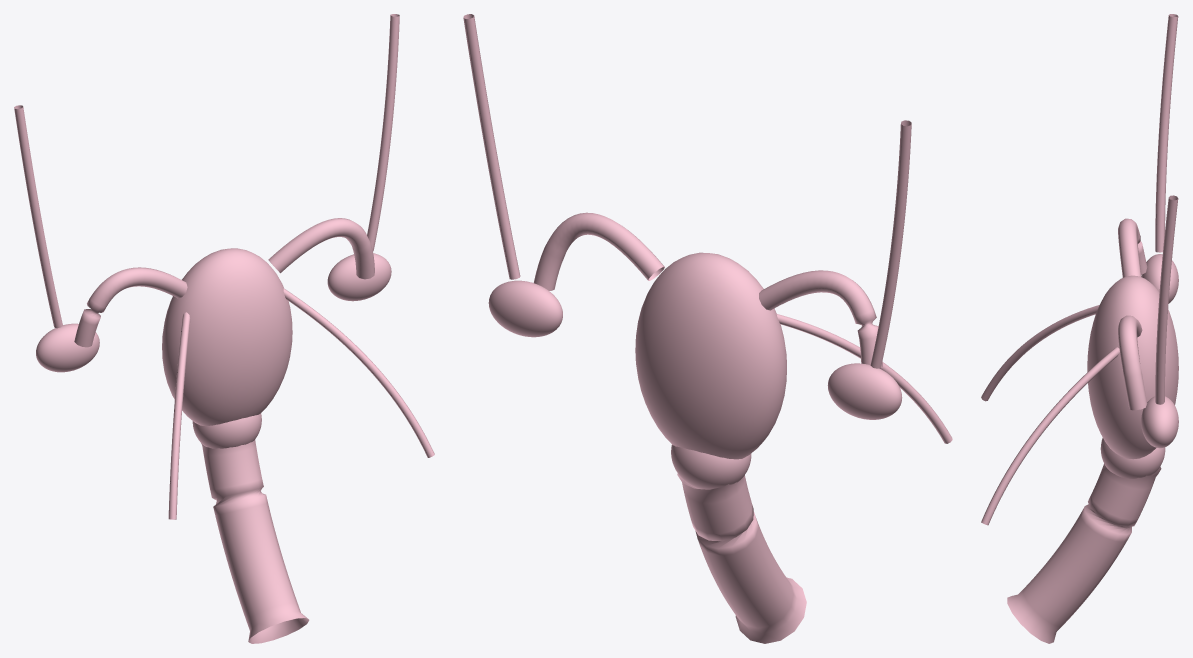
The model's file is female.glb.
The picture shows the model from 3 angles, left to right: view 1: azimuth 30°, elevation 25°; view 2: azimuth 150°, elevation 25°; view 3: azimuth 270°, elevation 25°; orthographic projection. The views are drawn at different scales.
Parts seen in each view (by area): view 1: Uterus, Vagina, Uterine tube (left), Uterine tube (right), Suspensory ligament of ovary (right), Suspensory ligament of ovary (left), Ovary (left), Ovary (right), Round ligament of uterus (right), Round ligament of uterus (left), Cervix of uterus; view 2: Uterus, Vagina, Uterine tube (right), Uterine tube (left), Ovary (right), Ovary (left), Suspensory ligament of ovary (right), Suspensory ligament of ovary (left), Cervix of uterus, Round ligament of uterus (left); view 3: Vagina, Uterus, Suspensory ligament of ovary (left), Suspensory ligament of ovary (right), Round ligament of uterus (right), Uterine tube (right), Ovary (right), Cervix of uterus, Uterine tube (left), Round ligament of uterus (left), Ovary (left).
Boxes of the visible parts, box(x1,y1,x2,y2) form: Uterus: box(162, 248, 292, 426); Vagina: box(201, 439, 309, 643); Uterine tube (left): box(74, 267, 187, 347); Uterine tube (right): box(268, 218, 374, 279); Suspensory ligament of ovary (right): box(367, 14, 399, 251); Suspensory ligament of ovary (left): box(14, 105, 62, 328); Ovary (left): box(36, 323, 99, 372); Ovary (right): box(327, 253, 391, 301); Round ligament of uterus (right): box(283, 288, 434, 457); Round ligament of uterus (left): box(168, 312, 190, 519); Cervix of uterus: box(192, 413, 261, 448); Uterus: box(635, 252, 786, 459); Vagina: box(677, 473, 806, 643); Uterine tube (right): box(533, 212, 664, 290); Uterine tube (left): box(759, 270, 882, 367); Ovary (right): box(488, 280, 562, 337); Ovary (left): box(827, 363, 902, 419); Suspensory ligament of ovary (right): box(463, 14, 520, 279); Suspensory ligament of ovary (left): box(870, 120, 911, 368); Cervix of uterus: box(671, 445, 751, 489); Round ligament of uterus (left): box(776, 314, 952, 443); Vagina: box(1007, 463, 1161, 643); Uterus: box(1087, 275, 1178, 459); Suspensory ligament of ovary (left): box(1155, 14, 1178, 252); Suspensory ligament of ovary (right): box(1155, 195, 1178, 404); Round ligament of uterus (right): box(981, 347, 1119, 525); Uterine tube (right): box(1118, 315, 1147, 410); Ovary (right): box(1141, 396, 1178, 448); Cervix of uterus: box(1100, 438, 1165, 478); Uterine tube (left): box(1118, 218, 1147, 277); Round ligament of uterus (left): box(981, 305, 1099, 401); Ovary (left): box(1141, 254, 1178, 303).
Bounding box in the file's own units: 1.64 × 2.18 × 0.7337.
